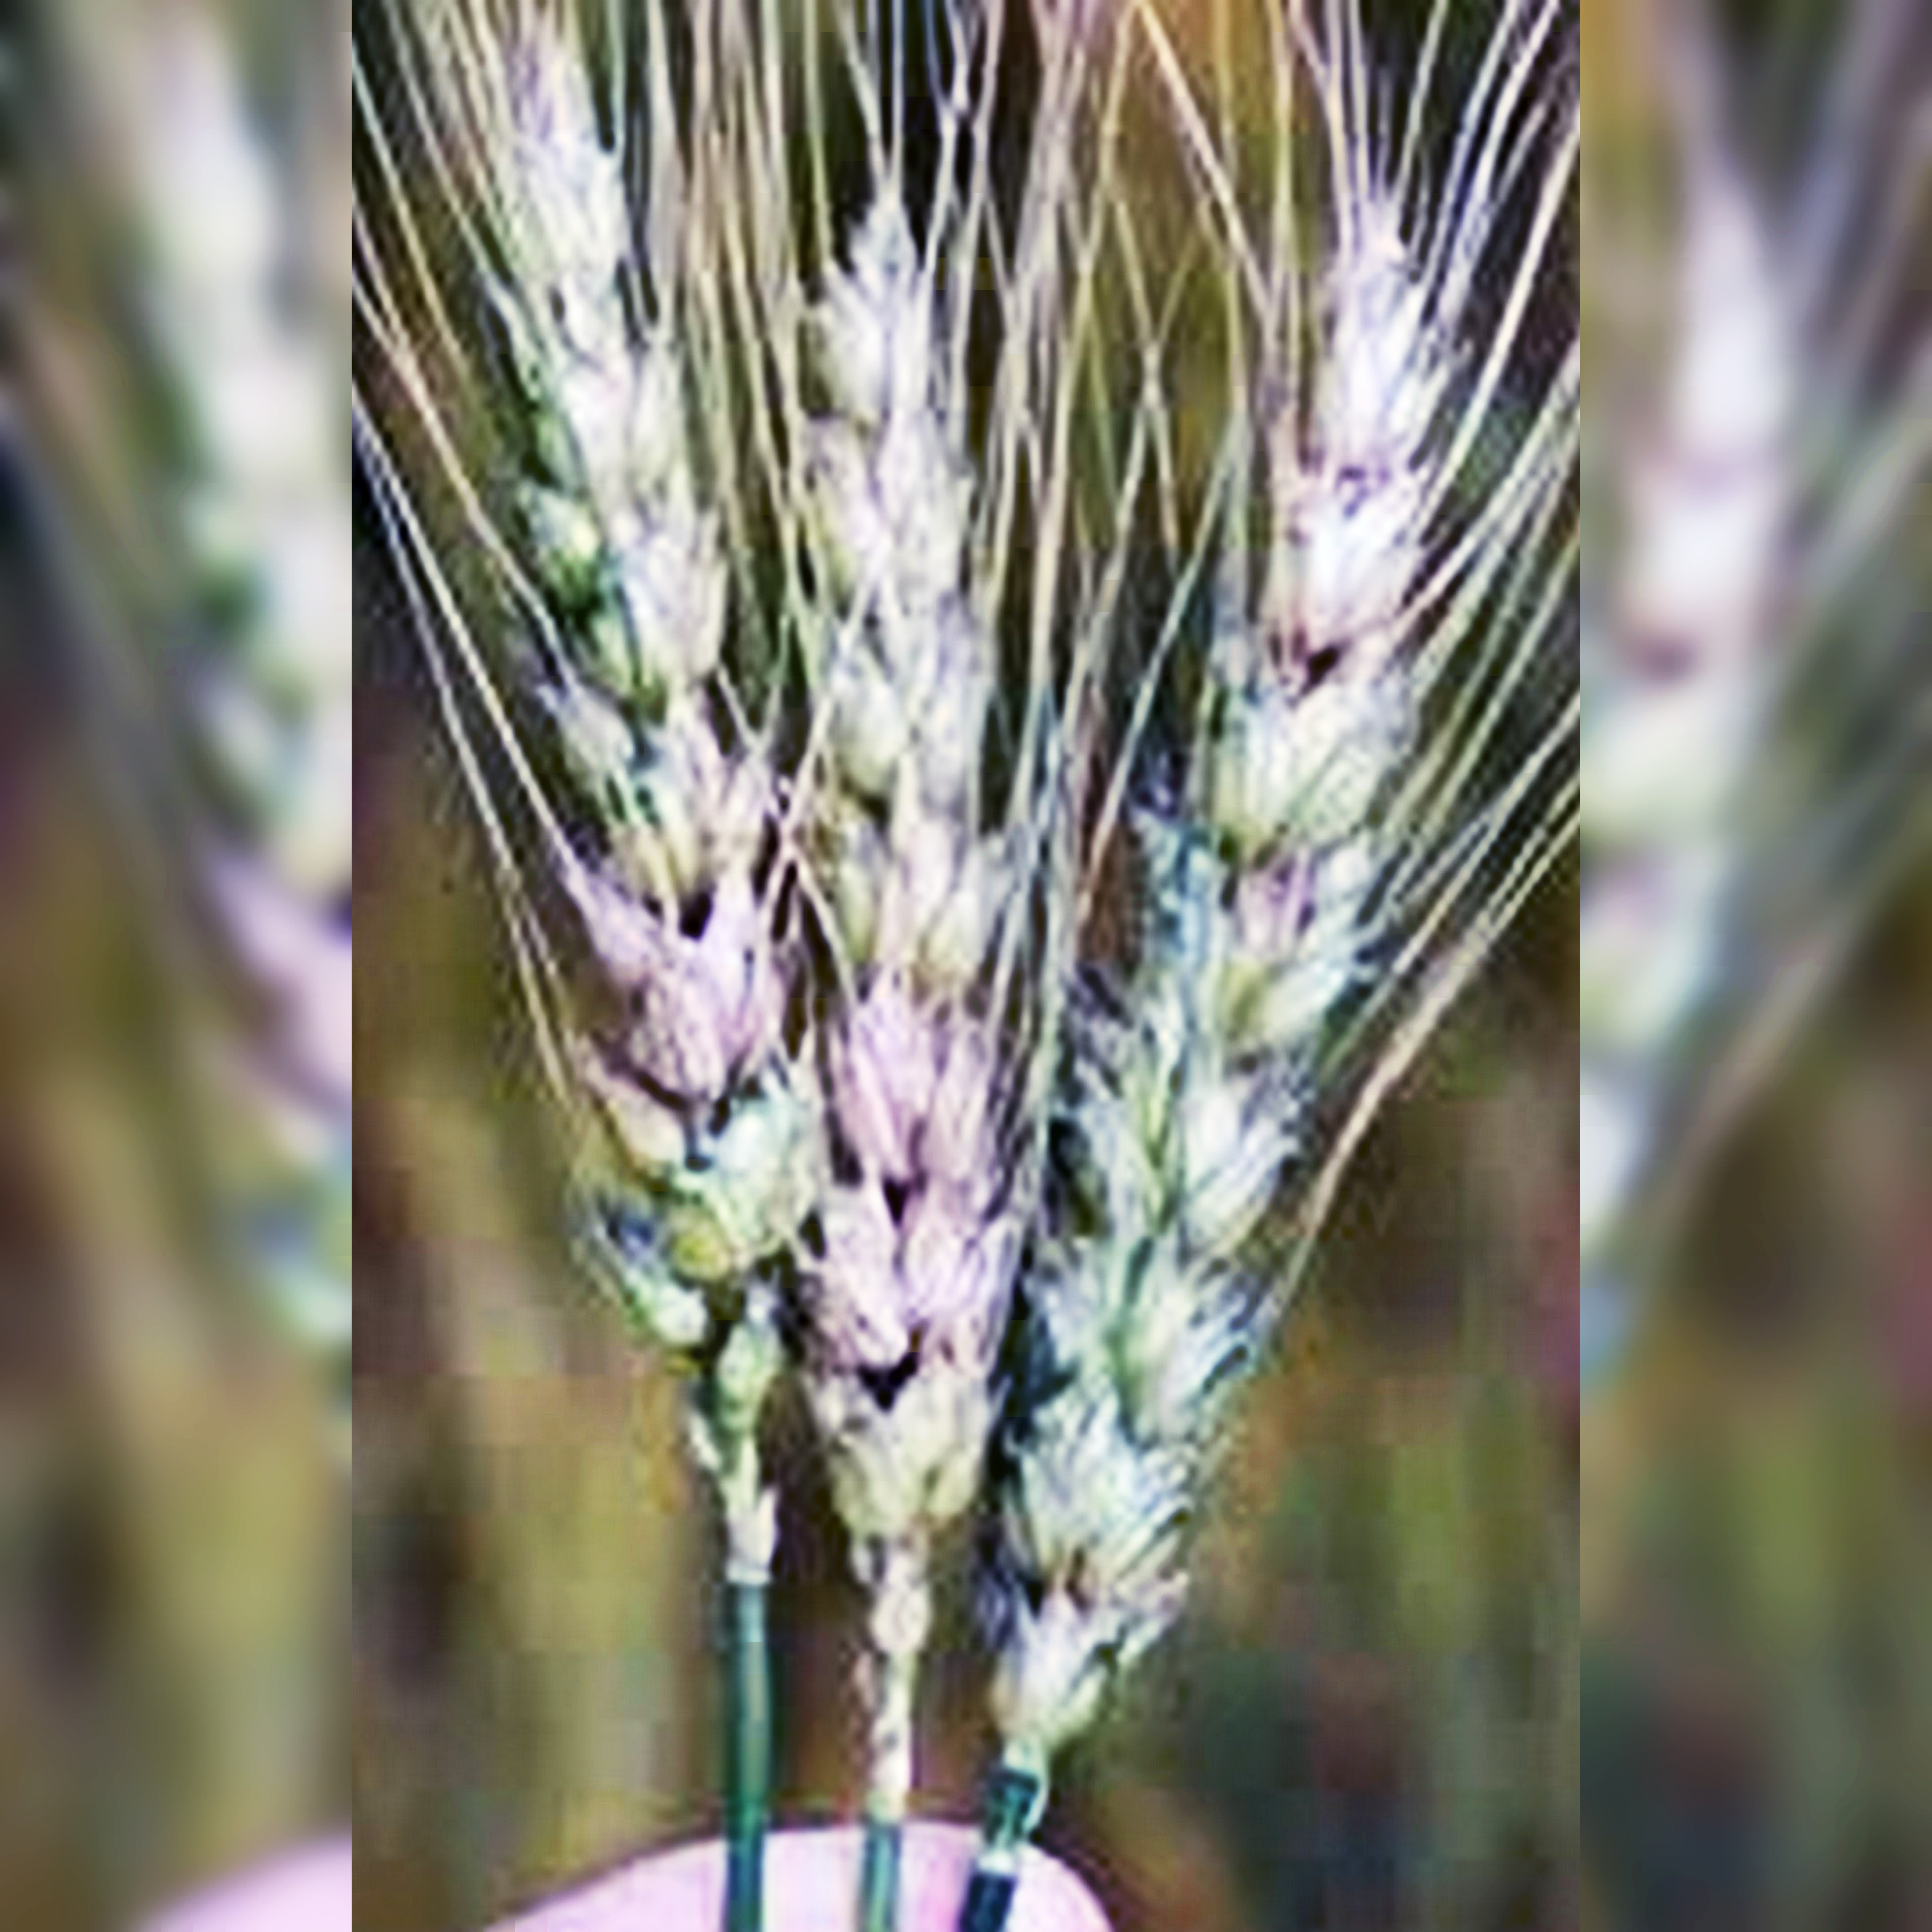Wheat scab: (474, 166, 1007, 1599)
